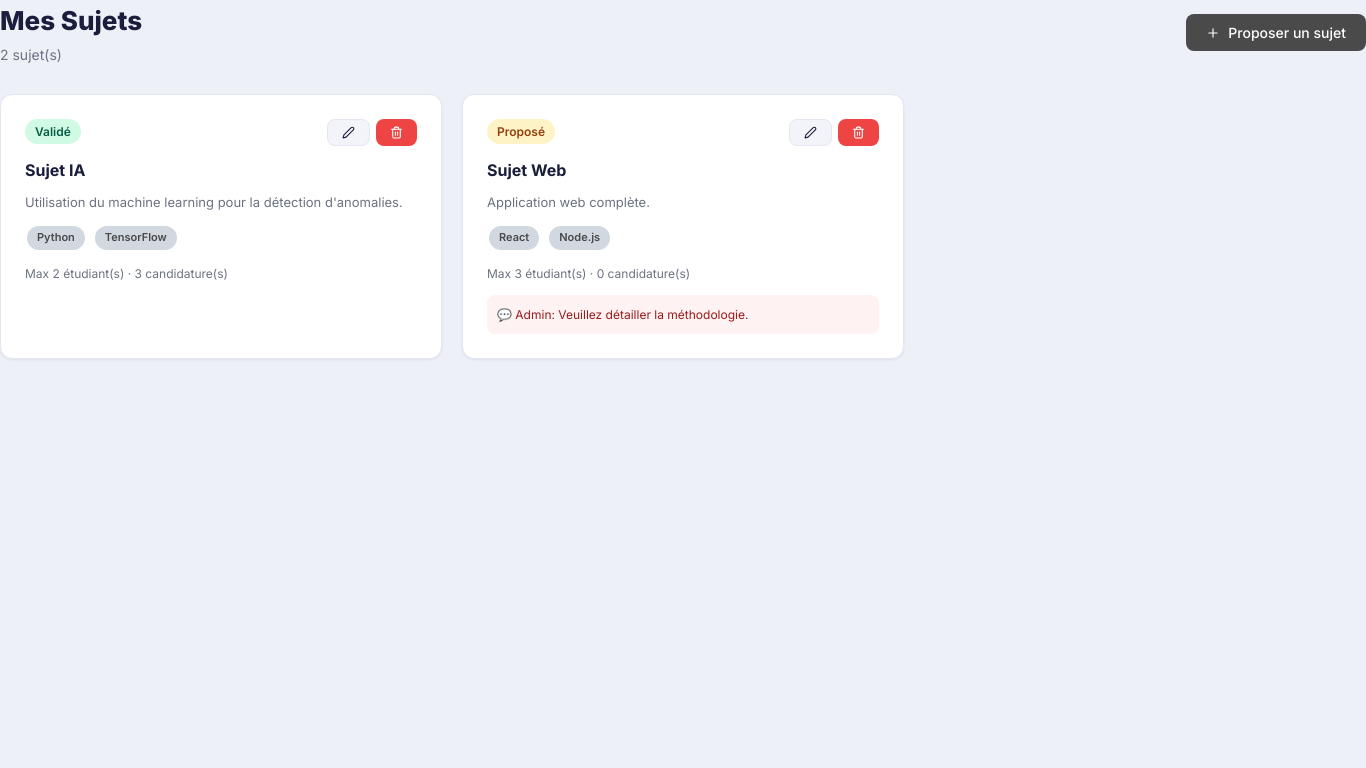
Test: MySupervisorSubjectsPage › opens create modal on button click
The image size is (1366, 768).
Expected: the heading "Sujet IA" is shown, [25, 160, 85, 180]
Click the button "Proposer un sujet".
click(1276, 33)  # box [1186, 14, 1365, 52]
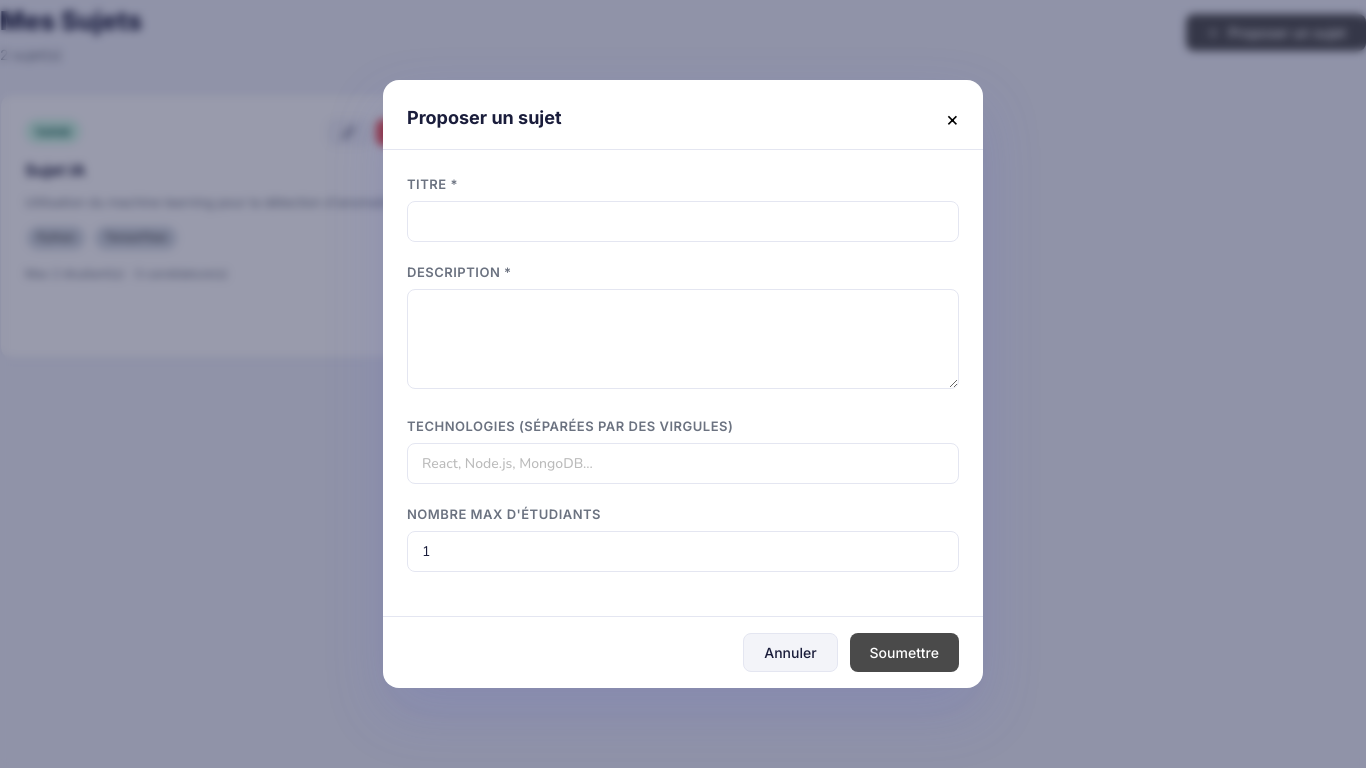
Expected: the heading "Proposer un sujet" is shown, [407, 104, 562, 133]
